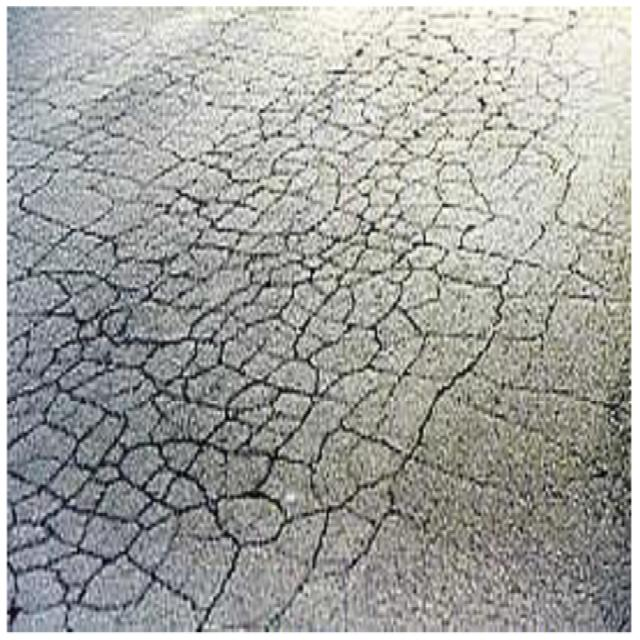Drain Hole: (104, 135, 487, 640)
